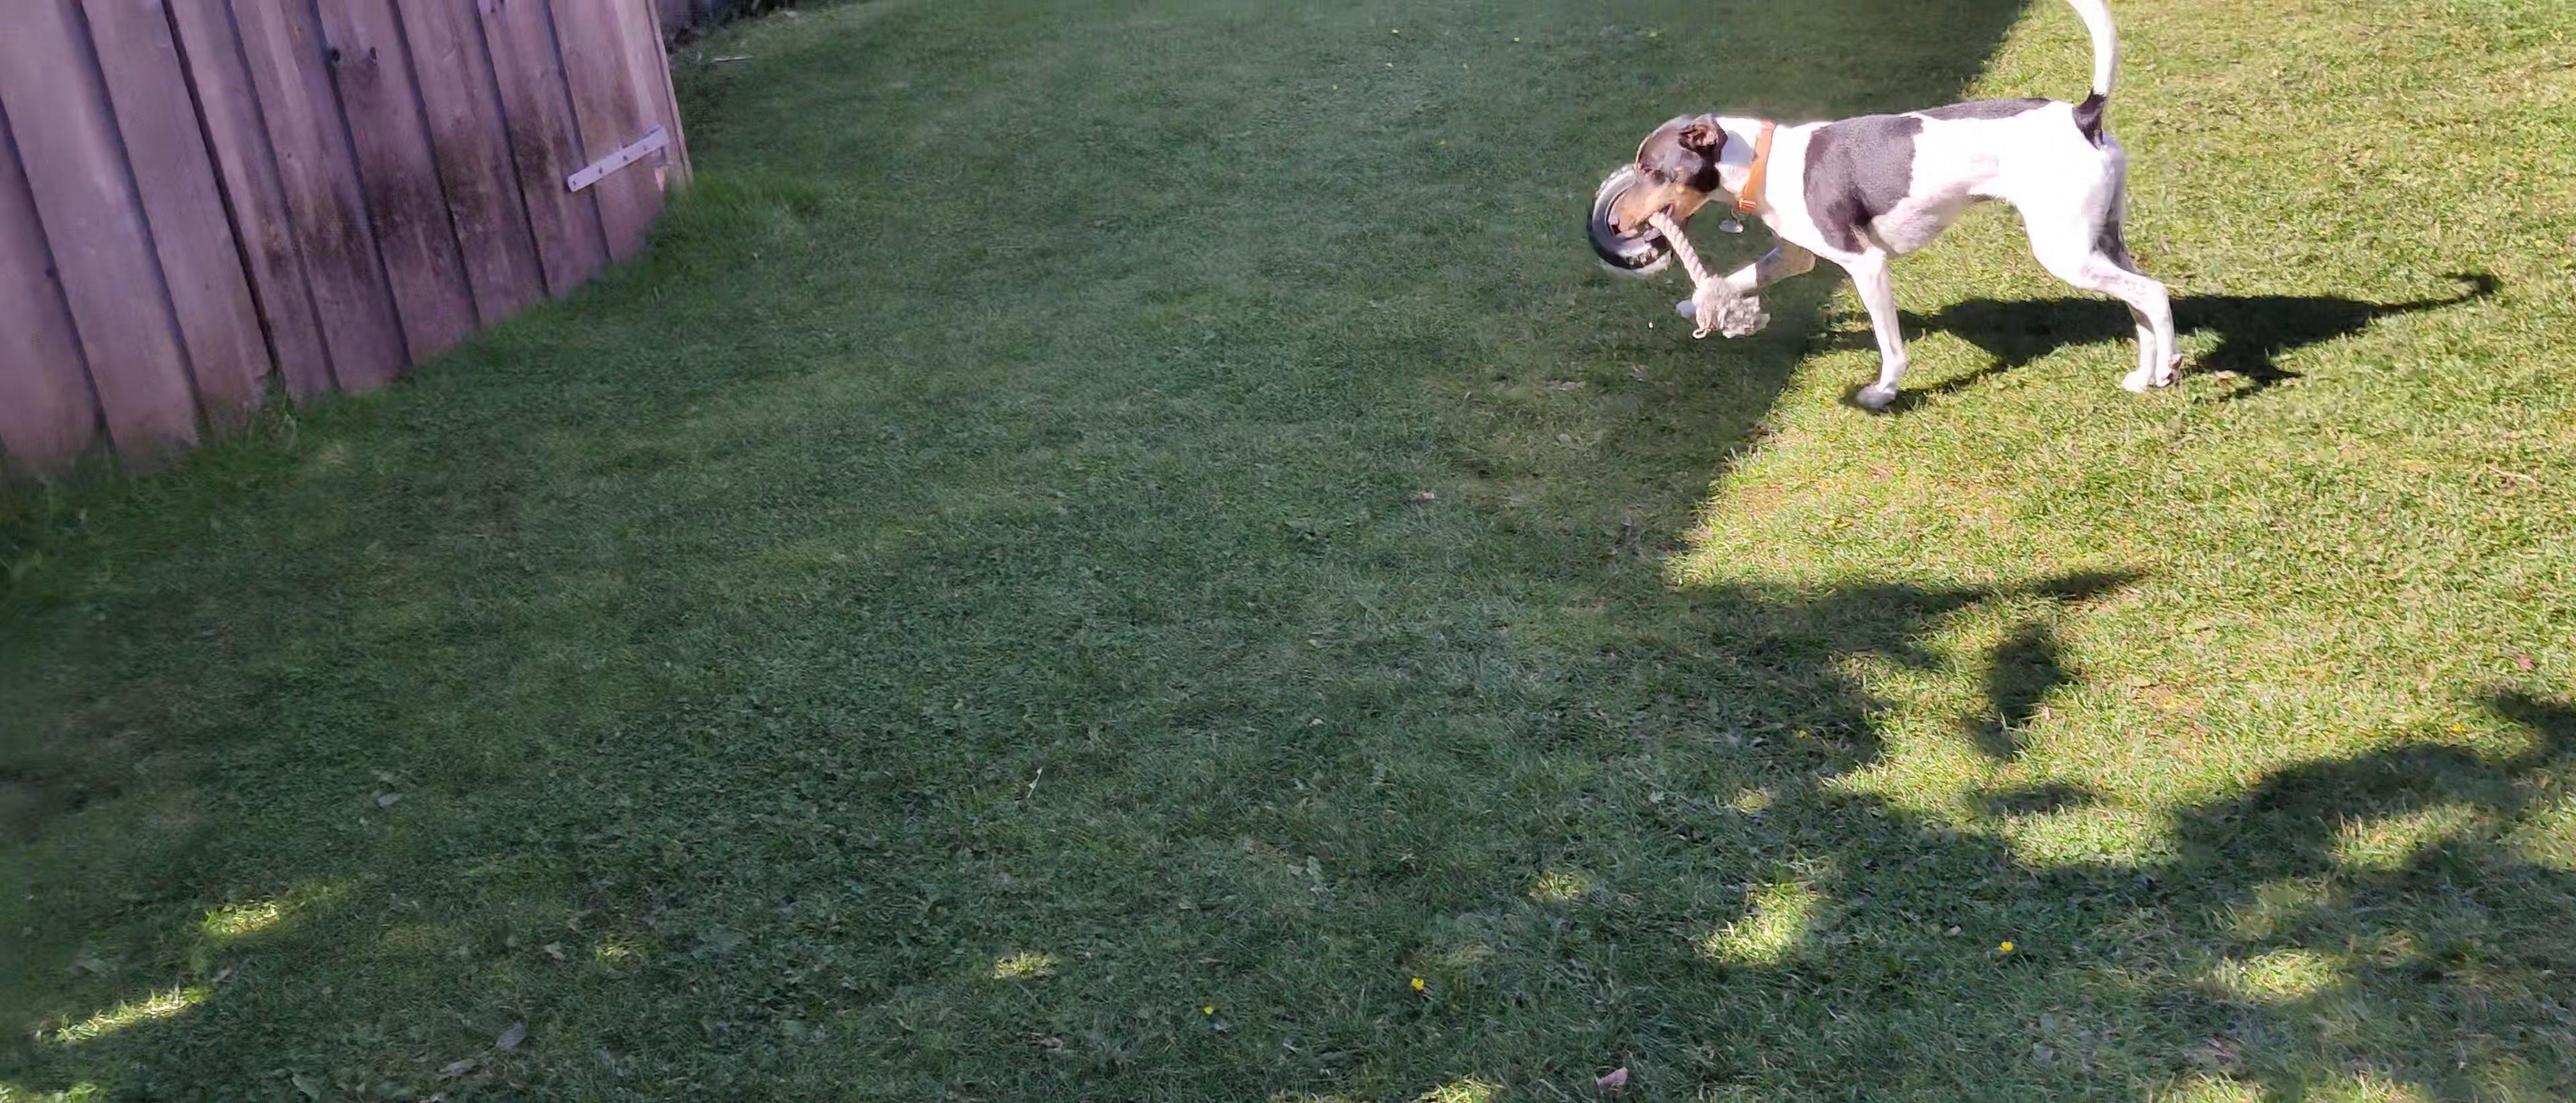Dog: (1608, 0, 2198, 411)
